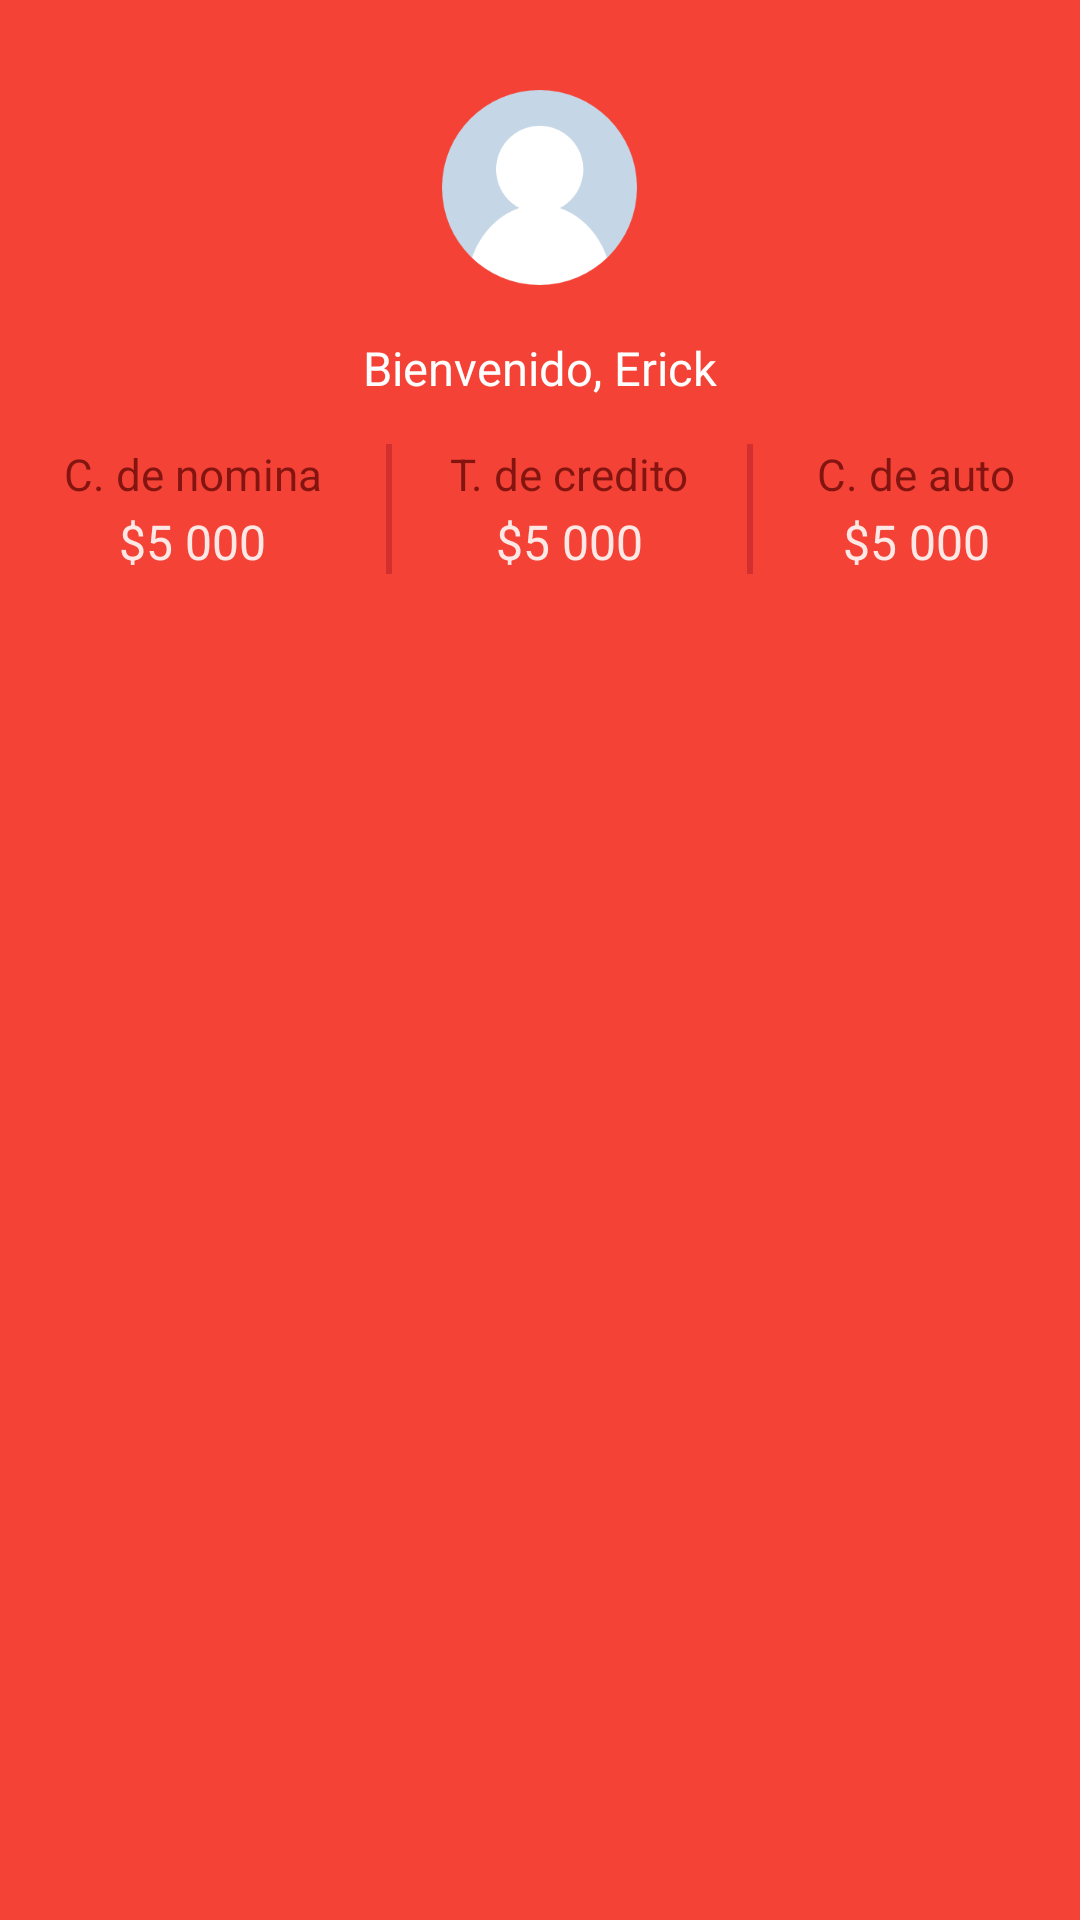

Where to tap for icons on this 1080×1920 app screen, as [x,y]:
profile: [539,187]
